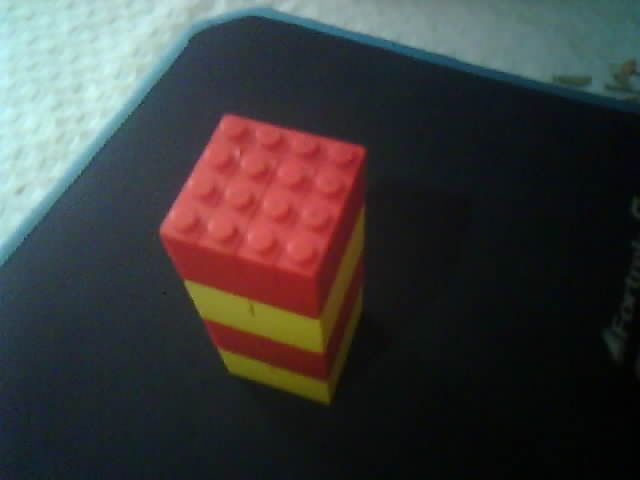lego: (157, 110, 369, 408)
